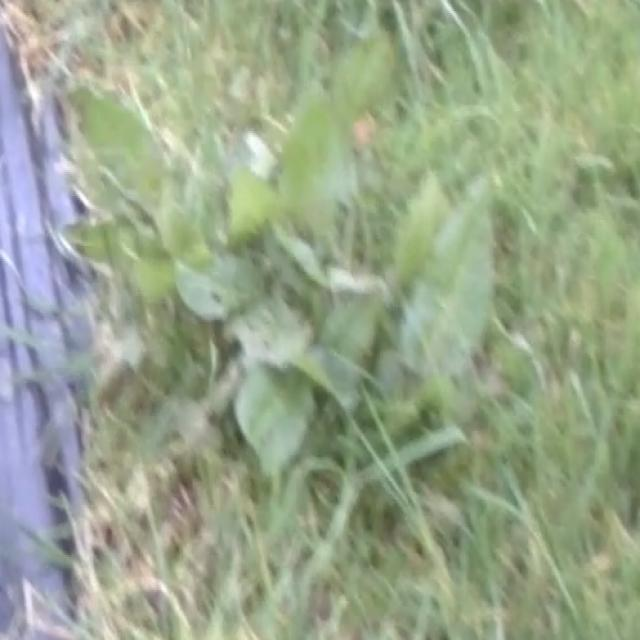organic waste: (65, 64, 517, 513)
